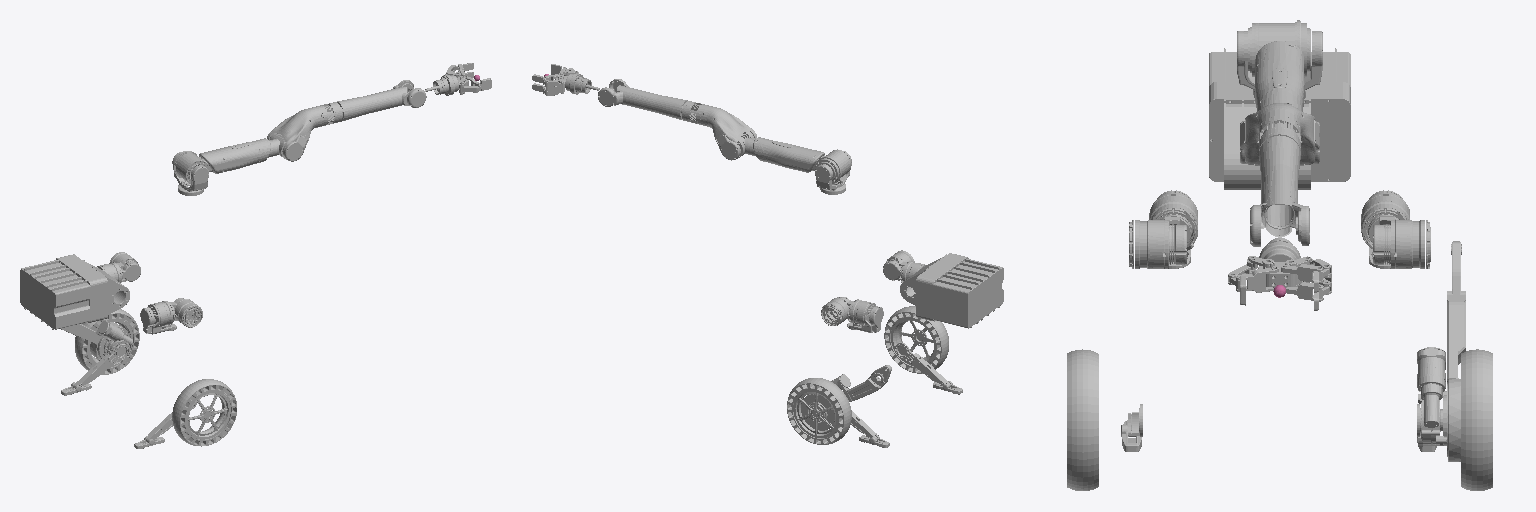
--- What the picture shows (computed from the rendered views, not written in the file) ---
3 views of the same robot in one strip: view 1: azimuth 30°, elevation 25°; view 2: azimuth 150°, elevation 25°; view 3: azimuth 270°, elevation 25° (orthographic).
Model cowa_legged_wheel_arm with 23 links and 22 joints (6 revolute, 16 fixed), rooted at base_link, posed every joint at zero.
Visible links, largest first — view 1: link13, link11, link16, link17, link18, link4, link5, link20, link7, link6, link15, link8 (+1 smaller); view 2: link13, link5, link11, link16, link17, link18, link4, link20, link15, link1, link12, link2 (+1 smaller); view 3: link13, link4, link18, link5, link11, link16, link20, link17, link2, link8, link15, link7 (+2 smaller).
Boxes of the visible links, x1,y1,x2,y2 form: link13: (20, 254, 129, 329); link11: (172, 379, 236, 446); link16: (175, 133, 286, 183); link17: (267, 102, 342, 161); link18: (337, 80, 426, 121); link4: (61, 320, 132, 364); link5: (75, 309, 139, 374); link20: (425, 63, 491, 95); link7: (140, 301, 176, 334); link6: (61, 344, 128, 395); link15: (172, 151, 208, 195); link8: (170, 298, 202, 327); link13: (900, 253, 1003, 328); link5: (787, 378, 851, 444); link11: (884, 306, 948, 373); link16: (737, 132, 851, 176); link17: (682, 101, 756, 160); link18: (598, 79, 687, 119); link4: (801, 365, 891, 430); link20: (532, 64, 599, 95); link15: (815, 151, 851, 194); link1: (847, 299, 883, 332); link12: (895, 343, 962, 394); link2: (821, 297, 853, 325); link13: (1209, 48, 1350, 189); link4: (1417, 241, 1465, 461); link18: (1250, 136, 1309, 246); link5: (1461, 349, 1492, 490); link11: (1067, 349, 1098, 490); link16: (1248, 22, 1304, 165); link20: (1228, 238, 1331, 310); link17: (1240, 103, 1319, 164); link2: (1369, 216, 1430, 268); link8: (1129, 216, 1190, 268); link15: (1237, 20, 1322, 97); link7: (1149, 190, 1197, 268).
Bounding box of the posed robot: 1.6 × 0.6592 × 0.9037 m (x, y, z).
15 mesh visuals loaded from 20 distinct referenced files (15 binary STL); not drawn: 5 (reference not matched to a file when rendering).

robot.urdf — cowa_legged_wheel_arm:
<?xml version="1.0" encoding="utf-8"?>
<!-- This URDF was automatically created by SolidWorks to URDF Exporter! Originally created by Stephen Brawner ([email redacted]) 
     Commit Version: 1.5.1-0-g916b5db  Build Version: 1.5.7152.31018
     For more information, please see http://wiki.ros.org/sw_urdf_exporter -->
<robot
  name="cowa_legged_wheel_arm">
  <link
    name="base_link">
    <inertial>
      <origin
        xyz="-0.0215122394343144 0.000742137899653434 0.25421459516443"
        rpy="0 0 0" />
      <mass
        value="6.25048424841747" />
      <inertia
        ixx="0.0787438445203987"
        ixy="1.45204178896887E-05"
        ixz="0.000529206091537684"
        iyy="0.104984220457091"
        iyz="9.72247802269794E-05"
        izz="0.139407886728396" />
    </inertial>
    <visual>
      <origin
        xyz="0 0 0"
        rpy="0 0 0" />
      <geometry>
        <mesh
          filename="../meshes/base_link.STL" />
      </geometry>
      <material
        name="">
        <color
          rgba="0.752941176470588 0.752941176470588 0.752941176470588 1" />
      </material>
    </visual>
    <collision>
      <origin
        xyz="0 0 0"
        rpy="0 0 0" />
      <geometry>
        <mesh
          filename="../meshes/base_link.STL" />
      </geometry>
    </collision>
  </link>
  <link
    name="link1">
    <inertial>
      <origin
        xyz="-0.037459564713196 0.000296570464660612 0.0397287846518548"
        rpy="0 0 0" />
      <mass
        value="0.141485113759397" />
      <inertia
        ixx="0.000131435805474177"
        ixy="-5.25180811615485E-08"
        ixz="9.23238875504788E-06"
        iyy="0.00010861689352192"
        iyz="5.37516342823689E-09"
        izz="0.000103621864343869" />
    </inertial>
    <visual>
      <origin
        xyz="0 0 0"
        rpy="0 0 0" />
      <geometry>
        <mesh
          filename="../meshes/link1.STL" />
      </geometry>
      <material
        name="">
        <color
          rgba="0.752941176470588 0.752941176470588 0.752941176470588 1" />
      </material>
    </visual>
    <collision>
      <origin
        xyz="0 0 0"
        rpy="0 0 0" />
      <geometry>
        <mesh
          filename="../meshes/link1.STL" />
      </geometry>
    </collision>
  </link>
  <joint
    name="joint1"
    type="fixed">
    <origin
      xyz="0 0.163866541391379 0.0202990367046766"
      rpy="0 0 0" />
    <parent
      link="base_link" />
    <child
      link="link1" />
    <axis
      xyz="0 0 1" />
    <limit
      lower="-0.1"
      upper="0.1"
      effort="50"
      velocity="10" />
  </joint>
  <link
    name="link2">
    <inertial>
      <origin
        xyz="-0.000172946027002796 0.0233736301928783 0.0391052066730756"
        rpy="0 0 0" />
      <mass
        value="0.116215242470186" />
      <inertia
        ixx="6.89313066303891E-05"
        ixy="-4.1937685149537E-08"
        ixz="-1.00424064587974E-07"
        iyy="0.00011549479685356"
        iyz="-1.78694033114206E-06"
        izz="6.72883538602048E-05" />
    </inertial>
    <visual>
      <origin
        xyz="0 0 0"
        rpy="0 0 0" />
      <geometry>
        <mesh
          filename="../meshes/link2.STL" />
      </geometry>
      <material
        name="">
        <color
          rgba="0.752941176470588 0.752941176470588 0.752941176470588 1" />
      </material>
    </visual>
    <collision>
      <origin
        xyz="0 0 0"
        rpy="0 0 0" />
      <geometry>
        <mesh
          filename="../meshes/link2.STL" />
      </geometry>
    </collision>
  </link>
  <joint
    name="joint2"
    type="fixed">
    <origin
      xyz="0.005500231059778 0 0.0530000000005213"
      rpy="0 1.5707963267949 0" />
    <parent
      link="link1" />
    <child
      link="link2" />
    <axis
      xyz="0 0 -1" />
    <limit
      lower="-0.1"
      upper="0.1"
      effort="50"
      velocity="10" />
  </joint>
  <link
    name="link3">
    <inertial>
      <origin
        xyz="0.0956654427375523 0.0111009592861303 0.03808954394634"
        rpy="0 0 0" />
      <mass
        value="0.47407080789971" />
      <inertia
        ixx="0.000372188335321758"
        ixy="-7.68774543291422E-06"
        ixz="1.15026962525068E-05"
        iyy="0.000412043041949642"
        iyz="2.09934379521314E-06"
        izz="0.000465236600004426" />
    </inertial>
    <visual>
      <origin
        xyz="0 0 0"
        rpy="0 0 0" />
      <geometry>
        <mesh
          filename="../meshes/link3.STL" />
      </geometry>
      <material
        name="">
        <color
          rgba="0.752941176470588 0.752941176470588 0.752941176470588 1" />
      </material>
    </visual>
    <collision>
      <origin
        xyz="0 0 0"
        rpy="0 0 0" />
      <geometry>
        <mesh
          filename="../meshes/link3.STL" />
      </geometry>
    </collision>
  </link>
  <joint
    name="joint3"
    type="fixed">
    <origin
      xyz="0 0.0692999999999813 0.0449999999999996"
      rpy="-1.57079632679533 0.927838373243824 0" />
    <parent
      link="link2" />
    <child
      link="link3" />
    <axis
      xyz="0 0 -1" />
    <limit
      lower="-3.14"
      upper="3.14"
      effort="50"
      velocity="10" />
  </joint>
  <link
    name="link4">
    <inertial>
      <origin
        xyz="0.196717222110634 -0.00253516089528246 -0.000446046942430389"
        rpy="0 0 0" />
      <mass
        value="0.353995005182766" />
      <inertia
        ixx="0.000333792168889437"
        ixy="-9.57425218420933E-06"
        ixz="1.35733157517952E-05"
        iyy="0.00142164442093878"
        iyz="-2.3681392757567E-06"
        izz="0.00171133561434437" />
    </inertial>
    <visual>
      <origin
        xyz="0 0 0"
        rpy="0 0 0" />
      <geometry>
        <mesh
          filename="../meshes/link4.STL" />
      </geometry>
      <material
        name="">
        <color
          rgba="0.752941176470588 0.752941176470588 0.752941176470588 1" />
      </material>
    </visual>
    <collision>
      <origin
        xyz="0 0 0"
        rpy="0 0 0" />
      <geometry>
        <mesh
          filename="../meshes/link4.STL" />
      </geometry>
    </collision>
  </link>
  <joint
    name="joint4"
    type="fixed">
    <origin
      xyz="0.250689031712127 -0.000168113742477771 0.03969876249965"
      rpy="0 0 -1.85513359124673" />
    <parent
      link="link3" />
    <child
      link="link4" />
    <axis
      xyz="0 0 -1" />
    <limit
      lower="-0.1"
      upper="0.1"
      effort="50"
      velocity="10" />
  </joint>
  <link
    name="link5">
    <inertial>
      <origin
        xyz="-4.17063721383008E-10 -1.72852643577316E-10 -0.0152782986726898"
        rpy="0 0 0" />
      <mass
        value="0.740884216919367" />
      <inertia
        ixx="0.00308171566693075"
        ixy="8.00416026151552E-12"
        ixz="4.67609020653744E-12"
        iyy="0.00308171565591592"
        iyz="1.69804455393841E-12"
        izz="0.00592401092489216" />
    </inertial>
    <visual>
      <origin
        xyz="0 0 0"
        rpy="0 0 0" />
      <geometry>
        <mesh
          filename="../meshes/link5.STL" />
      </geometry>
      <material
        name="">
        <color
          rgba="0.752941176470588 0.752941176470588 0.752941176470588 1" />
      </material>
    </visual>
    <collision>
      <origin
        xyz="0 0 0"
        rpy="0 0 0" />
      <geometry>
        <mesh
          filename="../meshes/link5.STL" />
      </geometry>
    </collision>
  </link>
  <joint
    name="joint5"
    type="fixed">
    <origin
      xyz="0.250000000000385 0 0.0482571067816528"
      rpy="0 0 -0.643501108792871" />
    <parent
      link="link4" />
    <child
      link="link5" />
    <axis
      xyz="0 0 -1" />
    <limit
      lower="0"
      upper="0"
      effort="22"
      velocity="10" />
  </joint>
  <link
    name="link6">
    <inertial>
      <origin
        xyz="-0.1037151234534 -0.0628614039302513 -0.00740493652451774"
        rpy="0 0 0" />
      <mass
        value="0.0678653518781049" />
      <inertia
        ixx="1.71885251068814E-05"
        ixy="-1.8575633476821E-05"
        ixz="2.40297035100153E-07"
        iyy="5.67091367198723E-05"
        iyz="1.73823580905077E-07"
        izz="6.86116636916753E-05" />
    </inertial>
    <visual>
      <origin
        xyz="0 0 0"
        rpy="0 0 0" />
      <geometry>
        <mesh
          filename="../meshes/link6.STL" />
      </geometry>
      <material
        name="">
        <color
          rgba="0.752941176470588 0.752941176470588 0.752941176470588 1" />
      </material>
    </visual>
    <collision>
      <origin
        xyz="0 0 0"
        rpy="0 0 0" />
      <geometry>
        <mesh
          filename="../meshes/link6.STL" />
      </geometry>
    </collision>
  </link>
  <joint
    name="joint6"
    type="fixed">
    <origin
      xyz="0.250000000000384 0 -0.0559499999995338"
      rpy="3.14159265358979 0 -0.643501108792871" />
    <parent
      link="link4" />
    <child
      link="link6" />
    <axis
      xyz="0 0 -1" />
    <limit
      lower="-0.2"
      upper="0.2"
      effort="20"
      velocity="10" />
  </joint>
  <link
    name="link7">
    <inertial>
      <origin
        xyz="0.0374595647210373 -0.000296570457780948 0.0397287846784011"
        rpy="0 0 0" />
      <mass
        value="0.141485113860759" />
      <inertia
        ixx="0.000131435805856257"
        ixy="-5.25180895149491E-08"
        ixz="-9.23238880469075E-06"
        iyy="0.000108616893903892"
        iyz="-5.37522207372441E-09"
        izz="0.000103621864362245" />
    </inertial>
    <visual>
      <origin
        xyz="0 0 0"
        rpy="0 0 0" />
      <geometry>
        <mesh
          filename="../meshes/link7.STL" />
      </geometry>
      <material
        name="">
        <color
          rgba="0.752941176470588 0.752941176470588 0.752941176470588 1" />
      </material>
    </visual>
    <collision>
      <origin
        xyz="0 0 0"
        rpy="0 0 0" />
      <geometry>
        <mesh
          filename="../meshes/link7.STL" />
      </geometry>
    </collision>
  </link>
  <joint
    name="joint7"
    type="fixed">
    <origin
      xyz="0 -0.164133458609073 0.0202991114494128"
      rpy="0 0 3.14159265358979" />
    <parent
      link="base_link" />
    <child
      link="link7" />
    <axis
      xyz="0 0 -1" />
    <limit
      lower="-0.1"
      upper="0.1"
      effort="50"
      velocity="10" />
  </joint>
  <link
    name="link8">
    <inertial>
      <origin
        xyz="0.000172946026494036 -0.0233736301921429 0.0391052066728264"
        rpy="0 0 0" />
      <mass
        value="0.116215242470186" />
      <inertia
        ixx="6.89313066303886E-05"
        ixy="-4.19376850344735E-08"
        ixz="1.00424064588688E-07"
        iyy="0.000115494796853561"
        iyz="1.78694033120512E-06"
        izz="6.72883538602045E-05" />
    </inertial>
    <visual>
      <origin
        xyz="0 0 0"
        rpy="0 0 0" />
      <geometry>
        <mesh
          filename="../meshes/link8.STL" />
      </geometry>
      <material
        name="">
        <color
          rgba="0.752941176470588 0.752941176470588 0.752941176470588 1" />
      </material>
    </visual>
    <collision>
      <origin
        xyz="0 0 0"
        rpy="0 0 0" />
      <geometry>
        <mesh
          filename="../meshes/link8.STL" />
      </geometry>
    </collision>
  </link>
  <joint
    name="joint8"
    type="fixed">
    <origin
      xyz="-0.0055000000000053 0 0.0529999999999926"
      rpy="3.14159265358979 1.5707963267949 0" />
    <parent
      link="link7" />
    <child
      link="link8" />
    <axis
      xyz="0 0 -1" />
    <limit
      lower="-0.1"
      upper="0.1"
      effort="50"
      velocity="10" />
  </joint>
  <link
    name="link9">
    <inertial>
      <origin
        xyz="0.0956123394418916 -0.0111820751980494 0.0390914700760893"
        rpy="0 0 0" />
      <mass
        value="0.474070396236978" />
      <inertia
        ixx="0.000372207478432026"
        ixy="7.74487484081531E-06"
        ixz="1.14286079041883E-05"
        iyy="0.000412022799967448"
        iyz="-2.56823806553867E-06"
        izz="0.000465235510563253" />
    </inertial>
    <visual>
      <origin
        xyz="0 0 0"
        rpy="0 0 0" />
      <geometry>
        <mesh
          filename="../meshes/link9.STL" />
      </geometry>
      <material
        name="">
        <color
          rgba="0.752941176470588 0.752941176470588 0.752941176470588 1" />
      </material>
    </visual>
    <collision>
      <origin
        xyz="0 0 0"
        rpy="0 0 0" />
      <geometry>
        <mesh
          filename="../meshes/link9.STL" />
      </geometry>
    </collision>
  </link>
  <joint
    name="joint9"
    type="fixed">
    <origin
      xyz="0 -0.0692999999990245 0.0449999999996086"
      rpy="1.57079632679768 0.927295218010442 0" />
    <parent
      link="link8" />
    <child
      link="link9" />
    <axis
      xyz="0 0 1" />
    <limit
      lower="-0.1"
      upper="0.1"
      effort="50"
      velocity="10" />
  </joint>
  <link
    name="link10">
    <inertial>
      <origin
        xyz="0.196716327411981 0.00254141728033713 -3.54378034517766E-05"
        rpy="0 0 0" />
      <mass
        value="0.353994497934022" />
      <inertia
        ixx="0.000333936517536917"
        ixy="9.42420064598517E-06"
        ixz="1.3560597331725E-05"
        iyy="0.00142149461898855"
        iyz="2.39928186713513E-06"
        izz="0.00171133420783965" />
    </inertial>
    <visual>
      <origin
        xyz="0 0 0"
        rpy="0 0 0" />
      <geometry>
        <mesh
          filename="../meshes/link10.STL" />
      </geometry>
      <material
        name="">
        <color
          rgba="0.752941176470588 0.752941176470588 0.752941176470588 1" />
      </material>
    </visual>
    <collision>
      <origin
        xyz="0 0 0"
        rpy="0 0 0" />
      <geometry>
        <mesh
          filename="../meshes/link10.STL" />
      </geometry>
    </collision>
  </link>
  <joint
    name="joint10"
    type="fixed">
    <origin
      xyz="0.250688996086698 3.21115652530679E-05 0.0397012374999995"
      rpy="0 0 1.85459043601246" />
    <parent
      link="link9" />
    <child
      link="link10" />
    <axis
      xyz="0 0 -1" />
    <limit
      lower="-3.14"
      upper="3.14"
      effort="50"
      velocity="10" />
  </joint>
  <link
    name="link11">
    <inertial>
      <origin
        xyz="2.66816677086183E-10 3.64182682858982E-10 -0.0145711918915034"
        rpy="0 0 0" />
      <mass
        value="0.740884216919369" />
      <inertia
        ixx="0.00308171565687746"
        ixy="8.57949972438968E-12"
        ixz="-3.11699131001928E-12"
        iyy="0.00308171566599704"
        iyz="-3.87807025121587E-12"
        izz="0.00592401092489228" />
    </inertial>
    <visual>
      <origin
        xyz="0 0 0"
        rpy="0 0 0" />
      <geometry>
        <mesh
          filename="../meshes/link11.STL" />
      </geometry>
      <material
        name="">
        <color
          rgba="0.752941176470588 0.752941176470588 0.752941176470588 1" />
      </material>
    </visual>
    <collision>
      <origin
        xyz="0 0 0"
        rpy="0 0 0" />
      <geometry>
        <mesh
          filename="../meshes/link11.STL" />
      </geometry>
    </collision>
  </link>
  <joint
    name="joint11"
    type="fixed">
    <origin
      xyz="0.250000000000384 0 0.0472499999995323"
      rpy="0 0 0.643501108792882" />
    <parent
      link="link10" />
    <child
      link="link11" />
    <axis
      xyz="0 0 1" />
    <limit
      lower="0"
      upper="0"
      effort="22"
      velocity="10" />
  </joint>
  <link
    name="link12">
    <inertial>
      <origin
        xyz="-0.103710863170283 0.0628687356749071 -0.00766936111934546"
        rpy="0 0 0" />
      <mass
        value="0.0678653471561708" />
      <inertia
        ixx="1.71996230456399E-05"
        ixy="1.85819740644336E-05"
        ixz="2.40213679686219E-07"
        iyy="5.6698034875648E-05"
        iyz="-1.73984452967223E-07"
        izz="6.86116604369952E-05" />
    </inertial>
    <visual>
      <origin
        xyz="0 0 0"
        rpy="0 0 0" />
      <geometry>
        <mesh
          filename="../meshes/link12.STL" />
      </geometry>
      <material
        name="">
        <color
          rgba="0.752941176470588 0.752941176470588 0.752941176470588 1" />
      </material>
    </visual>
    <collision>
      <origin
        xyz="0 0 0"
        rpy="0 0 0" />
      <geometry>
        <mesh
          filename="../meshes/link12.STL" />
      </geometry>
    </collision>
  </link>
  <joint
    name="joint12"
    type="fixed">
    <origin
      xyz="0.250000000000384 0 -0.0562500000004682"
      rpy="-3.14159265358979 0 0.643501108792882" />
    <parent
      link="link10" />
    <child
      link="link12" />
    <axis
      xyz="0 0 1" />
    <limit
      lower="-0.2"
      upper="0.2"
      effort="20"
      velocity="10" />
  </joint>
  <link
    name="link13">
    <inertial>
      <origin
        xyz="-0.123136987282302 0.0151607658711588 0.0533825148464637"
        rpy="0 0 0" />
      <mass
        value="0.563514936670776" />
      <inertia
        ixx="0.00435120226425841"
        ixy="2.22020074885306E-05"
        ixz="7.69730689429806E-06"
        iyy="0.00351063660771642"
        iyz="-1.4658855504191E-06"
        izz="0.00229095609358337" />
    </inertial>
    <visual>
      <origin
        xyz="0 0 0"
        rpy="0 0 0" />
      <geometry>
        <mesh
          filename="../meshes/link13.STL" />
      </geometry>
      <material
        name="">
        <color
          rgba="0.752941176470588 0.752941176470588 0.752941176470588 1" />
      </material>
    </visual>
    <collision>
      <origin
        xyz="0 0 0"
        rpy="0 0 0" />
      <geometry>
        <mesh
          filename="../meshes/link13.STL" />
      </geometry>
    </collision>
  </link>
  <joint
    name="joint13"
    type="fixed">
    <origin
      xyz="-0.13004 0.049865 0.12336"
      rpy="1.5708 0 0" />
    <parent
      link="base_link" />
    <child
      link="link13" />
    <axis
      xyz="0 0 -1" />
    <limit
      lower="0"
      upper="0.5"
      effort="50"
      velocity="10" />
  </joint>
  <link
    name="link15">
    <inertial>
      <origin
        xyz="-1.03473927592912E-07 0.00770907563685443 0.0349661195753538"
        rpy="0 0 0" />
      <mass
        value="0.145667292779416" />
      <inertia
        ixx="0.000233820059225218"
        ixy="-1.25467013562394E-08"
        ixz="8.94907632707461E-11"
        iyy="0.000147885338778037"
        iyz="-8.1975878835442E-06"
        izz="0.000198325407917826" />
    </inertial>
    <visual>
      <origin
        xyz="0 0 0"
        rpy="0 0 0" />
      <geometry>
        <mesh
          filename="../meshes/link15.STL" />
      </geometry>
      <material
        name="">
        <color
          rgba="0.752941176470588 0.752941176470588 0.752941176470588 1" />
      </material>
    </visual>
    <collision>
      <origin
        xyz="0 0 0"
        rpy="0 0 0" />
      <geometry>
        <mesh
          filename="../meshes/link15.STL" />
      </geometry>
    </collision>
  </link>
  <joint
    name="joint15"
    type="revolute">
    <origin
      xyz="0.17597 -0.0001347 0.40106"
      rpy="0 0 0" />
    <parent
      link="base_link" />
    <child
      link="link15" />
    <axis
      xyz="0 0 1" />
    <limit
      lower="-3.14"
      upper="3.14"
      effort="50"
      velocity="10" />
  </joint>
  <link
    name="link16">
    <inertial>
      <origin
        xyz="0.158062971991071 0.000762469071621696 -0.0464863640475797"
        rpy="0 0 0" />
      <mass
        value="0.399629470235238" />
      <inertia
        ixx="0.000305379867500283"
        ixy="4.33426631398603E-06"
        ixz="-1.69507039473207E-06"
        iyy="0.000888778544630236"
        iyz="-9.53566740258687E-08"
        izz="0.00102994371827679" />
    </inertial>
    <visual>
      <origin
        xyz="0 0 0"
        rpy="0 0 0" />
      <geometry>
        <mesh
          filename="../meshes/link16.STL" />
      </geometry>
      <material
        name="">
        <color
          rgba="0.752941176470588 0.752941176470588 0.752941176470588 1" />
      </material>
    </visual>
    <collision>
      <origin
        xyz="0 0 0"
        rpy="0 0 0" />
      <geometry>
        <mesh
          filename="../meshes/link16.STL" />
      </geometry>
    </collision>
  </link>
  <joint
    name="joint16"
    type="revolute">
    <origin
      xyz="0 -0.049 0.063"
      rpy="1.5708 0 0" />
    <parent
      link="link15" />
    <child
      link="link16" />
    <axis
      xyz="0 0 -1" />
    <limit
      lower="-2.548180707911721"
      upper="0.6108652381980153"
      effort="50"
      velocity="10" />
  </joint>
  <link
    name="link17">
    <inertial>
      <origin
        xyz="0.0764818327680735 0.0485456998557947 -0.042862750534009"
        rpy="0 0 0" />
      <mass
        value="0.24541330094835" />
      <inertia
        ixx="0.000366588514180756"
        ixy="-0.000132551557785585"
        ixz="-2.40806463152951E-06"
        iyy="0.000468308340397653"
        iyz="-4.75530196620547E-06"
        izz="0.000423643799150067" />
    </inertial>
    <visual>
      <origin
        xyz="0 0 0"
        rpy="0 0 0" />
      <geometry>
        <mesh
          filename="../meshes/link17.STL" />
      </geometry>
      <material
        name="">
        <color
          rgba="0.752941176470588 0.752941176470588 0.752941176470588 1" />
      </material>
    </visual>
    <collision>
      <origin
        xyz="0 0 0"
        rpy="0 0 0" />
      <geometry>
        <mesh
          filename="../meshes/link17.STL" />
      </geometry>
    </collision>
  </link>
  <joint
    name="joint17"
    type="revolute">
    <origin
      xyz="0.34 0 -0.0055"
      rpy="0 0 0" />
    <parent
      link="link16" />
    <child
      link="link17" />
    <axis
      xyz="0 0 -1" />
    <limit
      lower="-0.4363323129985824"
      upper="3.14"
      effort="50"
      velocity="10" />
  </joint>
  <link
    name="link18">
    <inertial>
      <origin
        xyz="0.000237659705932258 -0.0035043624965831 0.1438697022255"
        rpy="0 0 0" />
      <mass
        value="0.194086661760893" />
      <inertia
        ixx="0.00120682025381117"
        ixy="5.68314208657147E-08"
        ixz="-4.75281145604746E-07"
        iyy="0.00117974386103117"
        iyz="6.89586038142196E-05"
        izz="0.000101610097383774" />
    </inertial>
    <visual>
      <origin
        xyz="0 0 0"
        rpy="0 0 0" />
      <geometry>
        <mesh
          filename="../meshes/link18.STL" />
      </geometry>
      <material
        name="">
        <color
          rgba="0.752941176470588 0.752941176470588 0.752941176470588 1" />
      </material>
    </visual>
    <collision>
      <origin
        xyz="0 0 0"
        rpy="0 0 0" />
      <geometry>
        <mesh
          filename="../meshes/link18.STL" />
      </geometry>
    </collision>
  </link>
  <joint
    name="joint18"
    type="revolute">
    <origin
      xyz="0.1892 0.07 -0.0435"
      rpy="1.5708 0 1.5708" />
    <parent
      link="link17" />
    <child
      link="link18" />
    <axis
      xyz="0 0 -1" />
    <limit
      lower="-3.14"
      upper="3.14"
      effort="30"
      velocity="10" />
  </joint>
  <link
    name="link19">
    <inertial>
      <origin
        xyz="0.0366406027271926 7.33333262892266E-07 -0.0276893947607263"
        rpy="0 0 0" />
      <mass
        value="0.154495386463948" />
      <inertia
        ixx="0.000106291137322143"
        ixy="6.2530712134575E-09"
        ixz="-7.24733335158824E-06"
        iyy="9.32179767699239E-05"
        iyz="1.78644625878297E-07"
        izz="0.000120238566892709" />
    </inertial>
    <visual>
      <origin
        xyz="0 0 0"
        rpy="0 0 0" />
      <geometry>
        <mesh
          filename="../meshes/link19.STL" />
      </geometry>
      <material
        name="">
        <color
          rgba="0.752941176470588 0.752941176470588 0.752941176470588 1" />
      </material>
    </visual>
    <collision>
      <origin
        xyz="0 0 0"
        rpy="0 0 0" />
      <geometry>
        <mesh
          filename="../meshes/link19.STL" />
      </geometry>
    </collision>
  </link>
  <joint
    name="joint19"
    type="revolute">
    <origin
      xyz="0 -0.0265 0.2658"
      rpy="1.5708 -1.5708 0" />
    <parent
      link="link18" />
    <child
      link="link19" />
    <axis
      xyz="0 0 -1" />
    <limit
      lower="-0.77"
      upper="0.77"
      effort="30"
      velocity="10" />
  </joint>
  <link
    name="link20">
    <inertial>
      <origin
        xyz="0.000203307103204931 -0.00698941973368347 0.0611414317957217"
        rpy="0 0 0" />
      <mass
        value="0.178858978597187" />
      <inertia
        ixx="7.15473384855344E-05"
        ixy="7.49148085569265E-08"
        ixz="-5.95703577141229E-07"
        iyy="5.85290140503039E-05"
        iyz="2.45937314226541E-06"
        izz="5.74195820374602E-05" />
    </inertial>
    <visual>
      <origin
        xyz="0 0 0"
        rpy="0 0 0" />
      <geometry>
        <mesh
          filename="../meshes/link20.STL" />
      </geometry>
      <material
        name="">
        <color
          rgba="0.752941176470588 0.752941176470588 0.752941176470588 1" />
      </material>
    </visual>
    <collision>
      <origin
        xyz="0 0 0"
        rpy="0 0 0" />
      <geometry>
        <mesh
          filename="../meshes/link20.STL" />
      </geometry>
    </collision>
  </link>
  <joint
    name="joint20"
    type="revolute">
    <origin
      xyz="0.1085 0 -0.0265"
      rpy="-1.5708 0 -1.5708" />
    <parent
      link="link19" />
    <child
      link="link20" />
    <axis
      xyz="0 0 -1" />
    <limit
      lower="-3.14"
      upper="3.14"
      effort="20"
      velocity="10" />
  </joint>

  <link name="l_ace">
    <visual>
      <origin
        xyz="0 0 0"
        rpy="0 0 0" />
      <geometry>
        <sphere radius="0.01"/>
      </geometry>
    </visual>
  </link>
  <joint
    name="l_hand_keypoint_joint"
    type="fixed">
    <origin
      xyz="0 0 0.08"
      rpy="0 -1.5707963267949 3.14159265358979" />
    <parent
      link="link20" />
    <child
      link="l_ace" />
    <axis
      xyz="0 1 0" />
    <limit
      lower="0"
      upper="0"
      effort="100"
      velocity="10" />
  </joint>

  <link name="r_ace">
    <visual>
      <origin
        xyz="0 0 0"
        rpy="0 0 0" />
      <geometry>
        <sphere radius="0.01"/>
      </geometry>
    </visual>
  </link>
  <joint
    name="r_hand_keypoint_joint"
    type="fixed">
    <origin
      xyz="0 0 0.080"
      rpy="1.5707963267949 1.5707963267949 0" />
    <parent
      link="link20" />
    <child
      link="r_ace" />
    <axis
      xyz="0 1 0" />
    <limit
      lower="0"
      upper="0"
      effort="100"
      velocity="10" />
  </joint>

  <link name="hand_center">
    <visual>
      <origin
        xyz="0 0 0"
        rpy="0 0 0" />
      <geometry>
        <sphere radius="0.01"/>
      </geometry>
    </visual>
  </link>
  <joint
    name="hand_center_joint"
    type="fixed">
    <origin
      xyz=" 0 0 0.13"
      rpy="0 -1.5707963267949 3.14159265358979" />
    <parent
      link="link20" />
    <child
      link="hand_center" />
    <axis
      xyz="0 1 0" />
    <limit
      lower="0"
      upper="0"
      effort="100"
      velocity="10" />
  </joint>
</robot>
